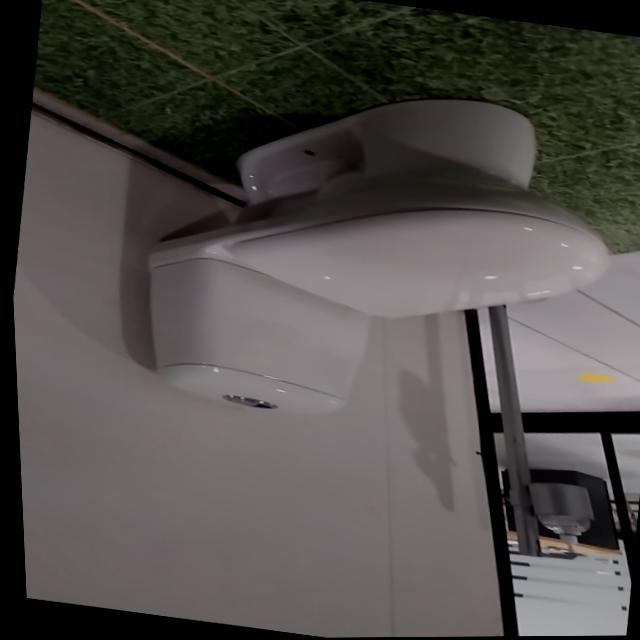toilet: (119, 47, 640, 468)
